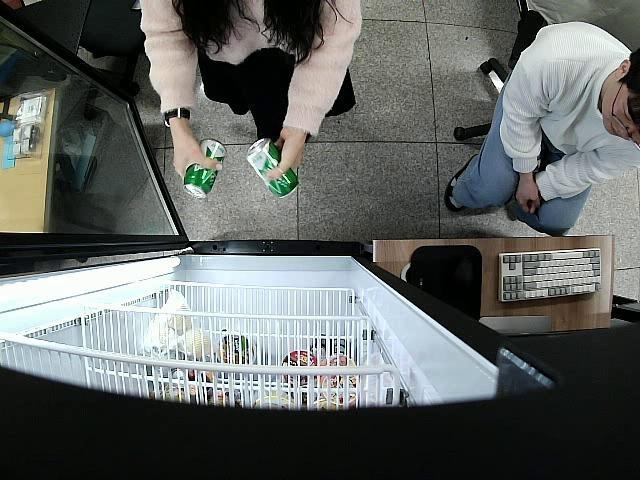12_chilsungCider: (248, 138, 300, 198), (182, 138, 225, 198)
